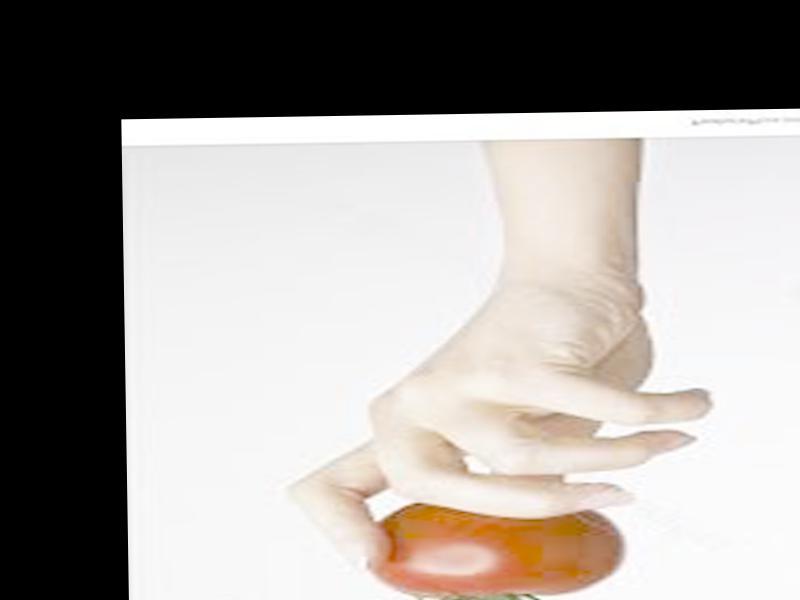Tomato: (370, 501, 623, 600)
